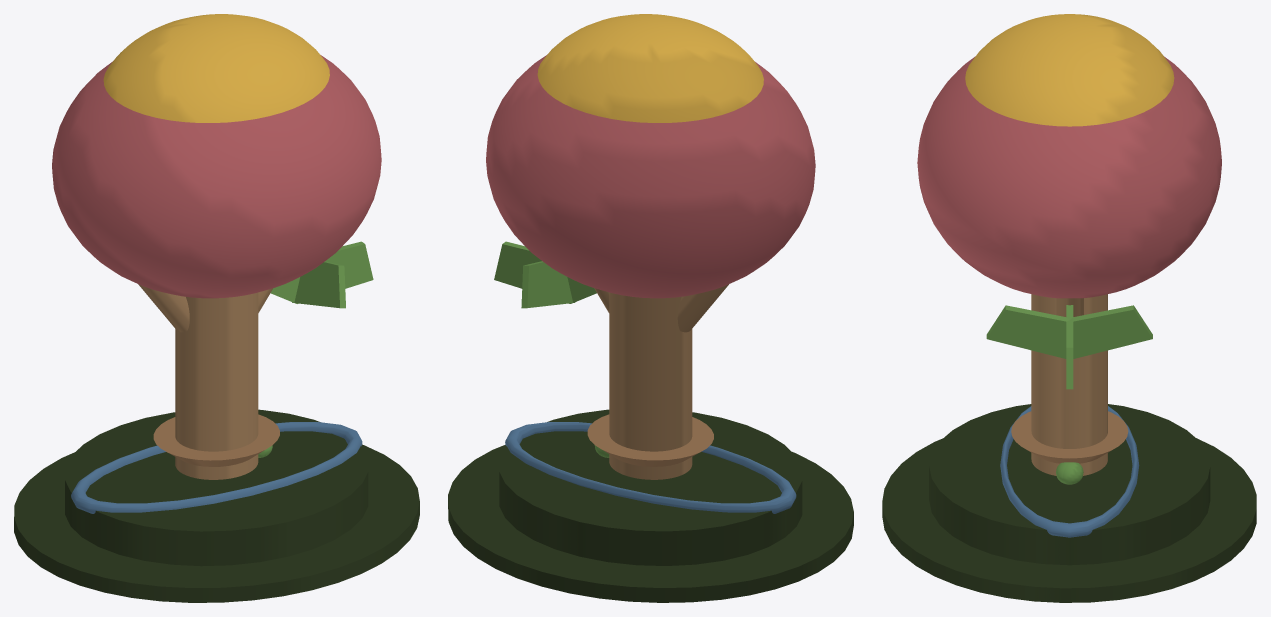
Rendered from 1311_中国古代寓言_栎社树.glb.
3 views of the same model, side by side, from view 1: azimuth 30°, elevation 25°; view 2: azimuth 150°, elevation 25°; view 3: azimuth 270°, elevation 25° (orthographic).
Parts seen in each view (by area): view 1: card_1311; view 2: card_1311; view 3: card_1311.
Part boxes in pixels (x1,y1,x2,y2): card_1311: (14,14,419,602); card_1311: (448,14,853,602); card_1311: (882,14,1256,602).
Size of the model in its own units: 0.762 by 1 by 0.6972.
